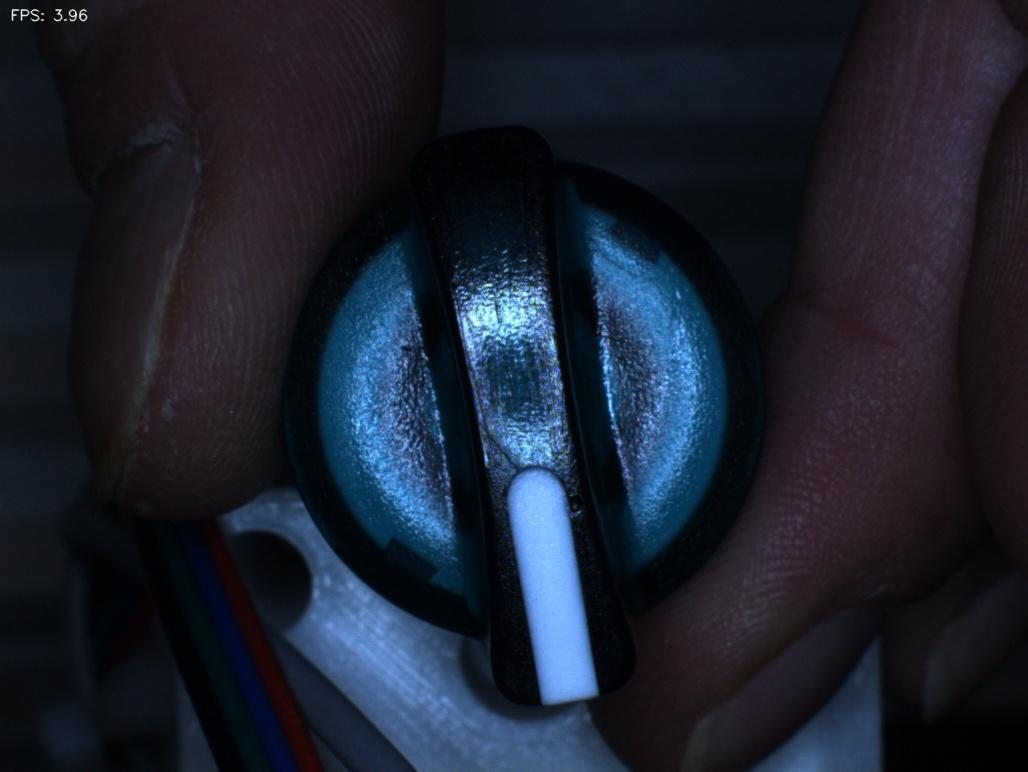Choc: (529, 463, 625, 552)
